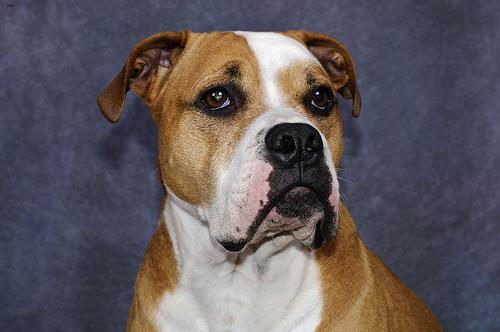dog-american_bulldog: (95, 28, 359, 252)
